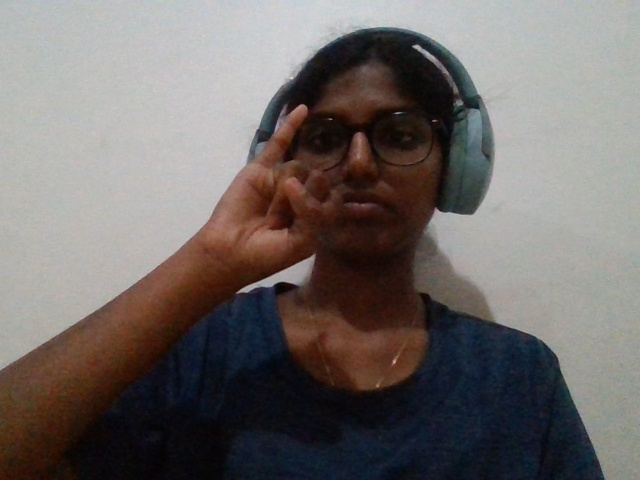I: (194, 89, 362, 330)
